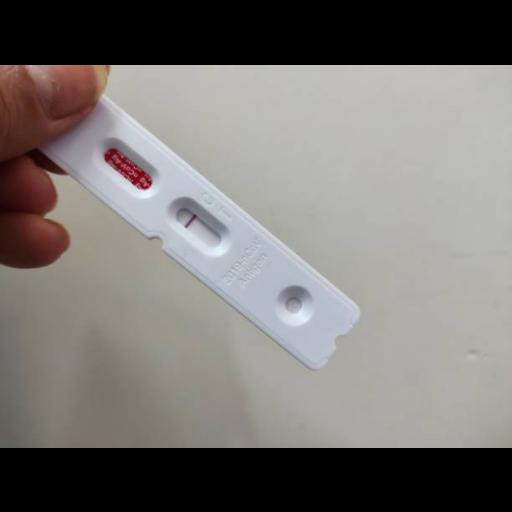Neg: (50, 99, 364, 371)
